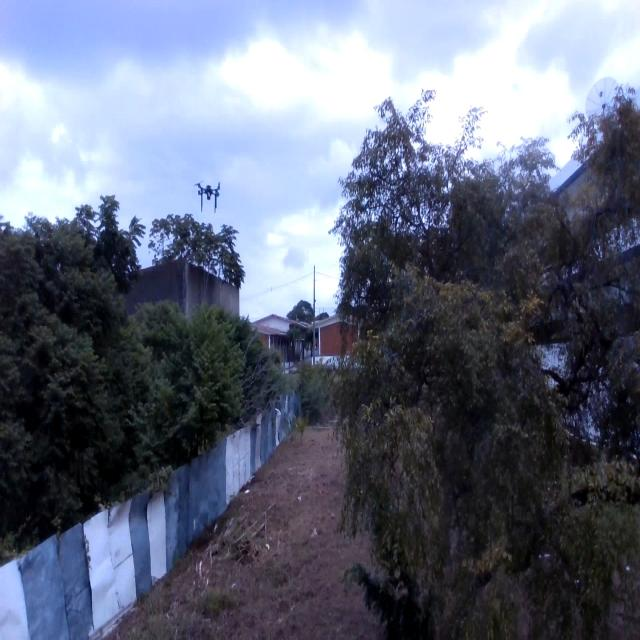-uav-: (194, 176, 228, 218)
